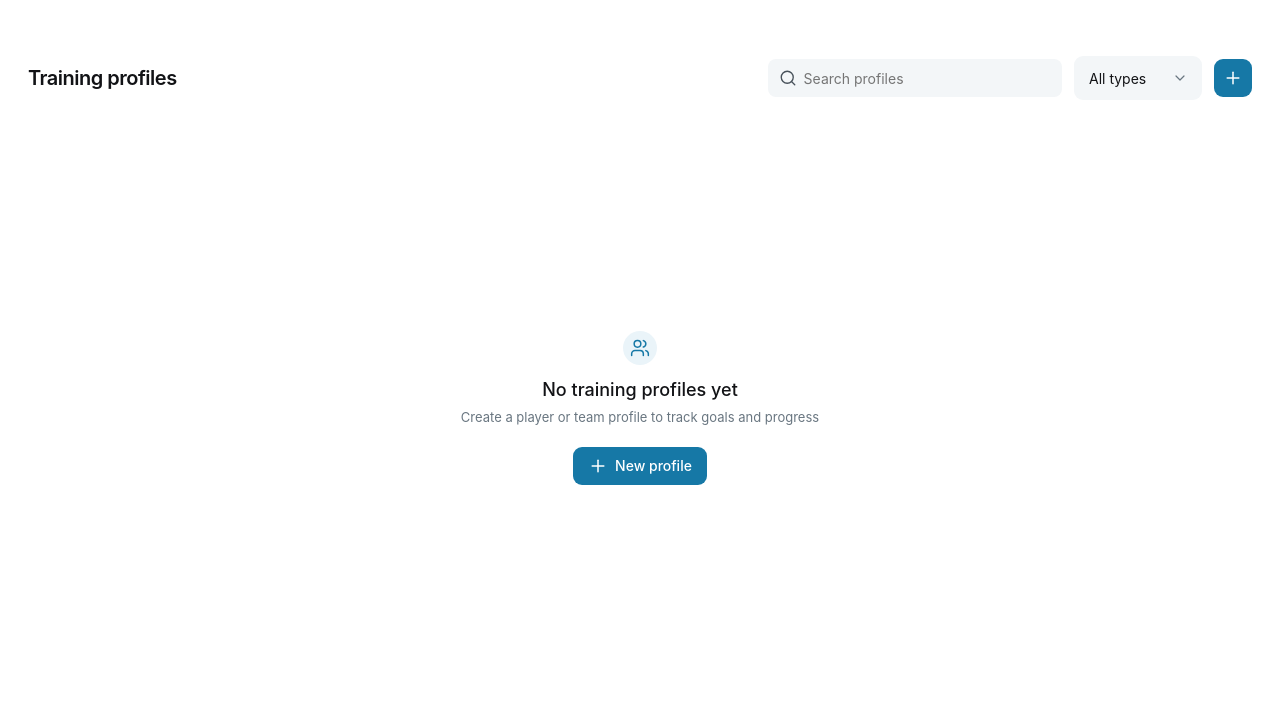
Test case: profile errors preserve the editable draft and never announce success
Click the button named "New profile" at [1233, 78], box top-left (1214, 59), bottom-right (1252, 97)
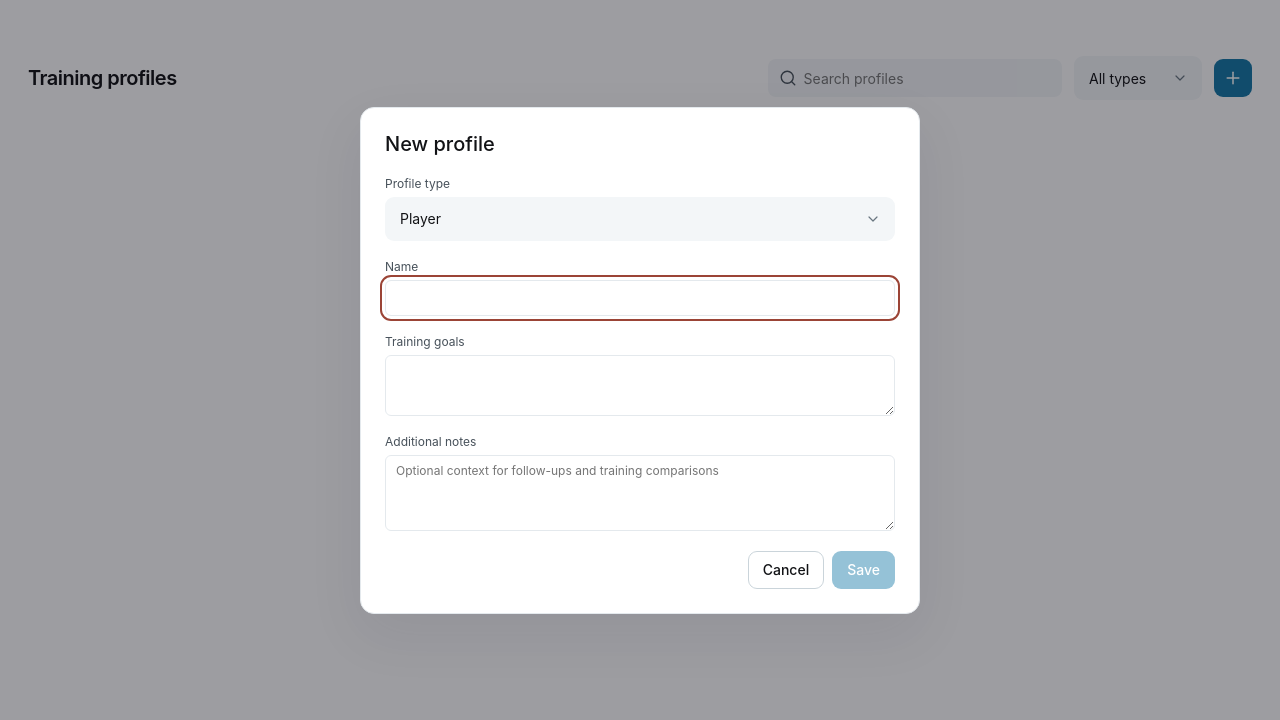
Select "Team" in the dropdown labelled "Profile type" at [640, 218], box top-left (385, 196), bottom-right (895, 240)
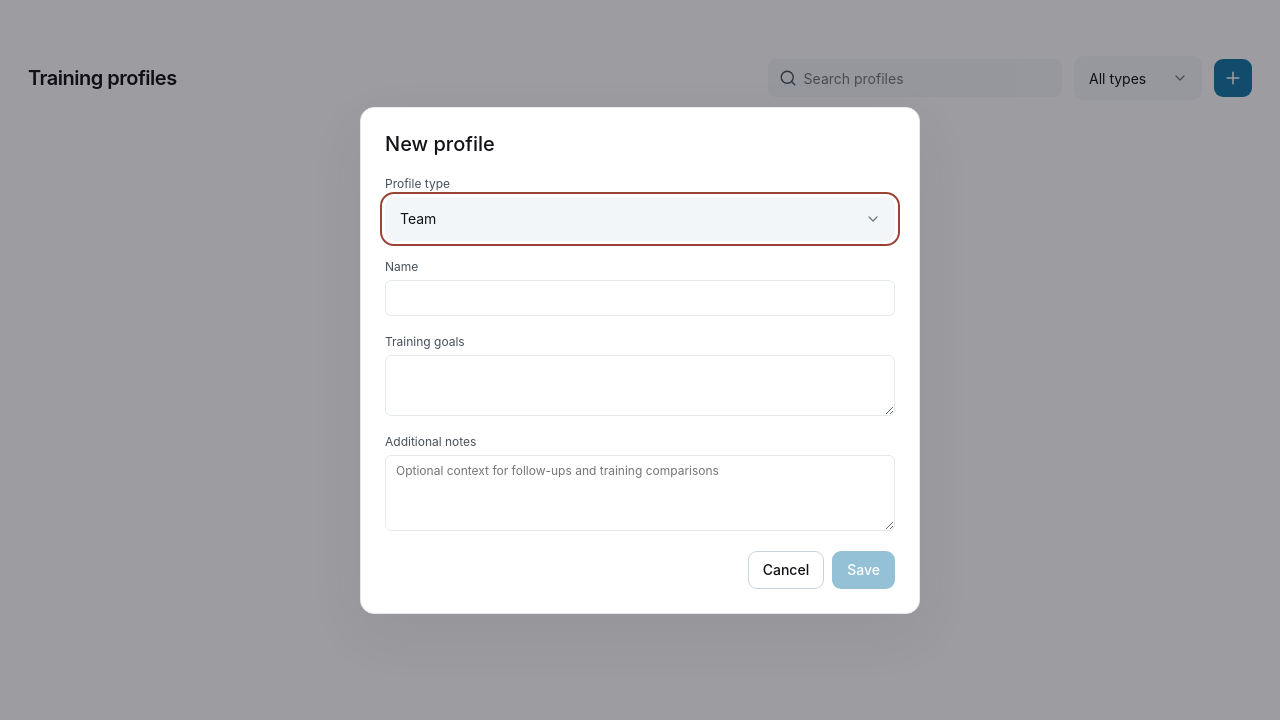
Type "Team A" into the field labelled "Name" at [640, 298], box top-left (385, 280), bottom-right (895, 316)
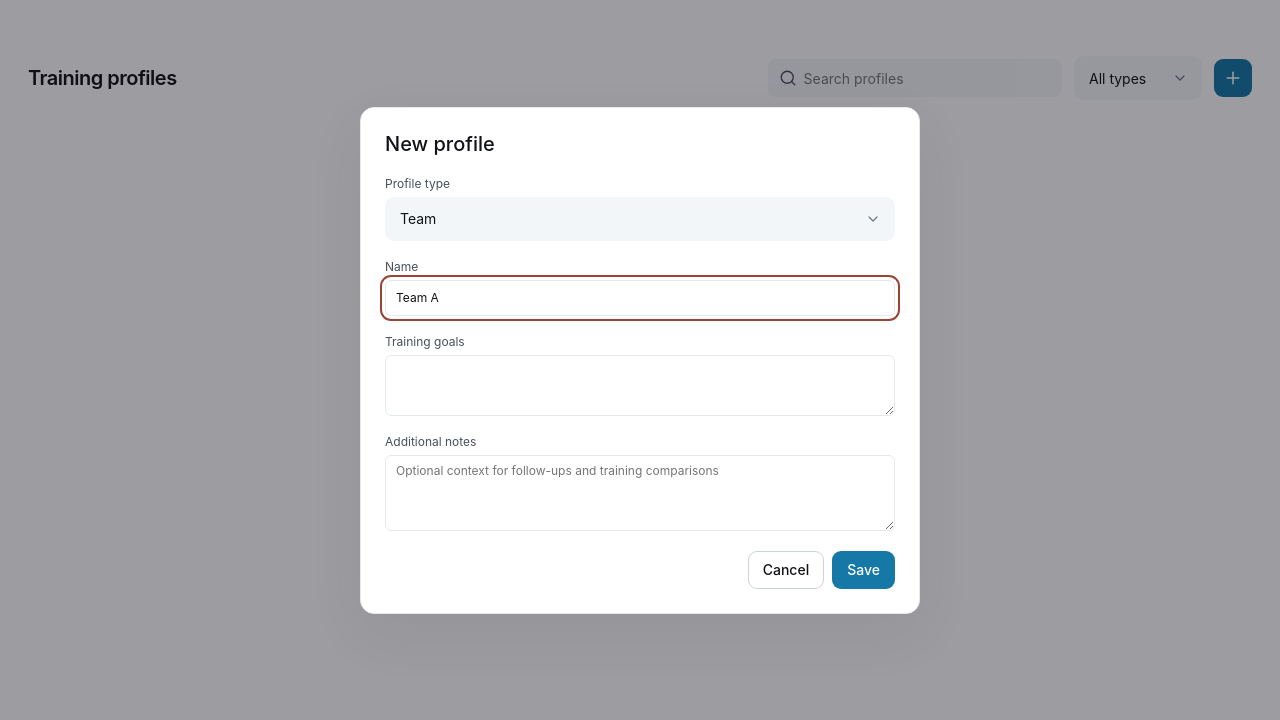
Click the button "Save" at [864, 570], box top-left (832, 550), bottom-right (895, 588)
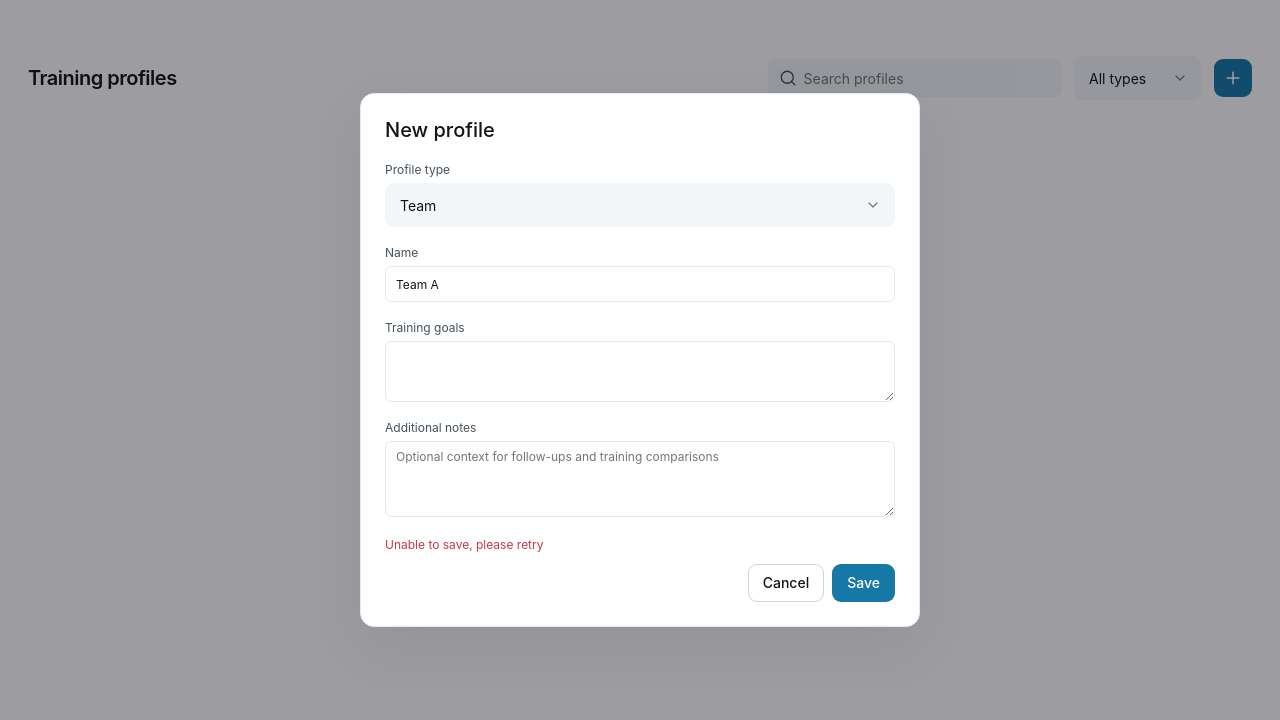
Now the button "Save" is enabled, box top-left (832, 564), bottom-right (895, 602)
Now the message "Unable to save, please retry" is shown, box top-left (385, 537), bottom-right (544, 552)
